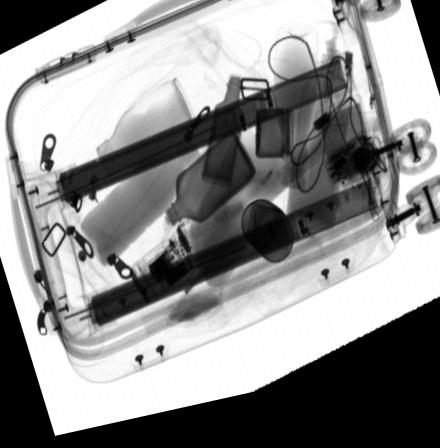Powerbank: (315, 112, 385, 226)
